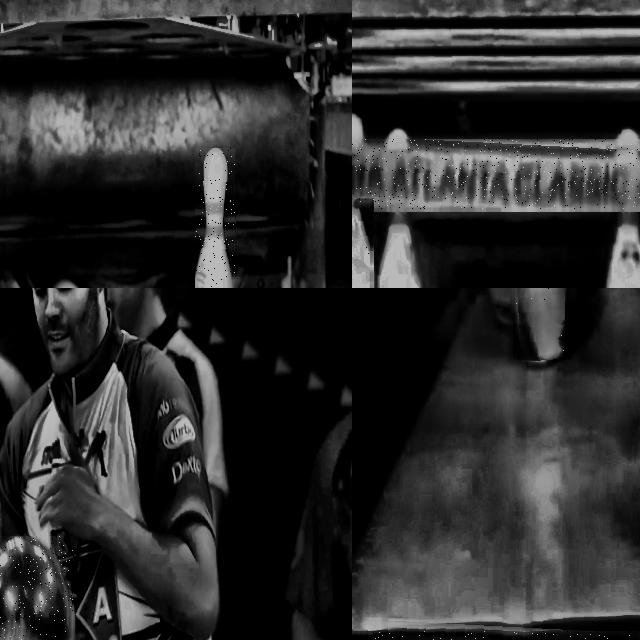bowling-pins: (0, 536, 73, 640), (196, 149, 234, 288), (517, 288, 565, 360), (377, 210, 421, 288), (606, 211, 640, 288), (352, 201, 371, 288), (383, 126, 410, 172)
sweep board: (352, 143, 640, 209)
